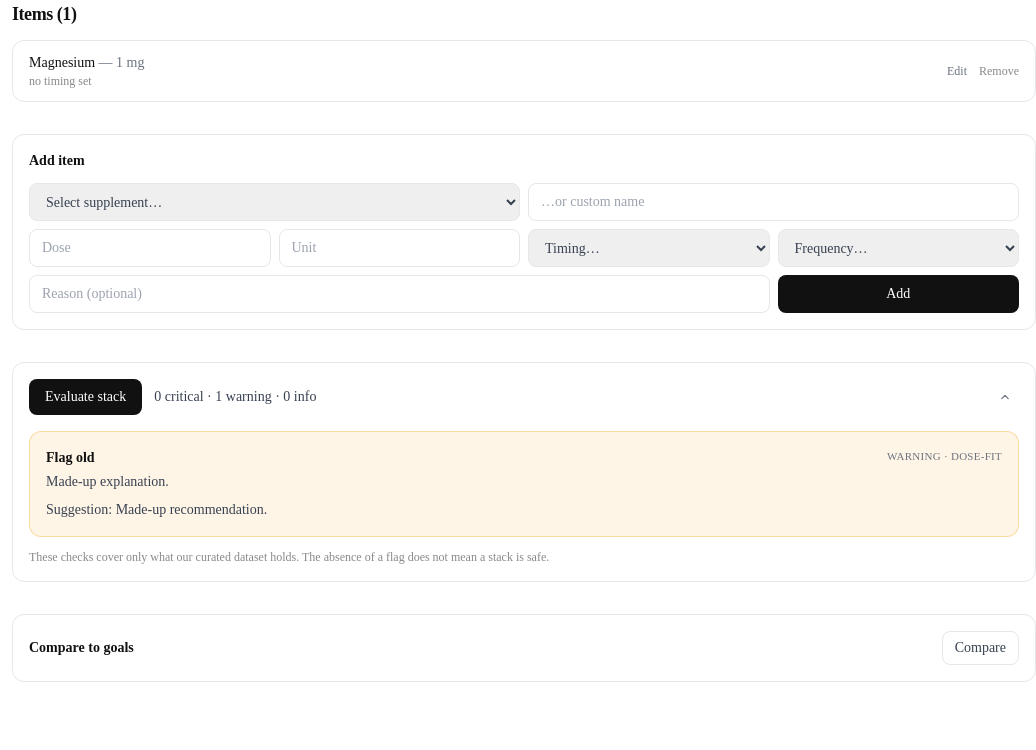
it: StackWorkspace — evaluation flags (rule 8) › an evaluation replaces the flags with the server's, in severity order
What coordinates should you click on to do the following:
click the button "Evaluate stack"
I would click on:
 (86, 397)
Its box is [29,379,142,415].
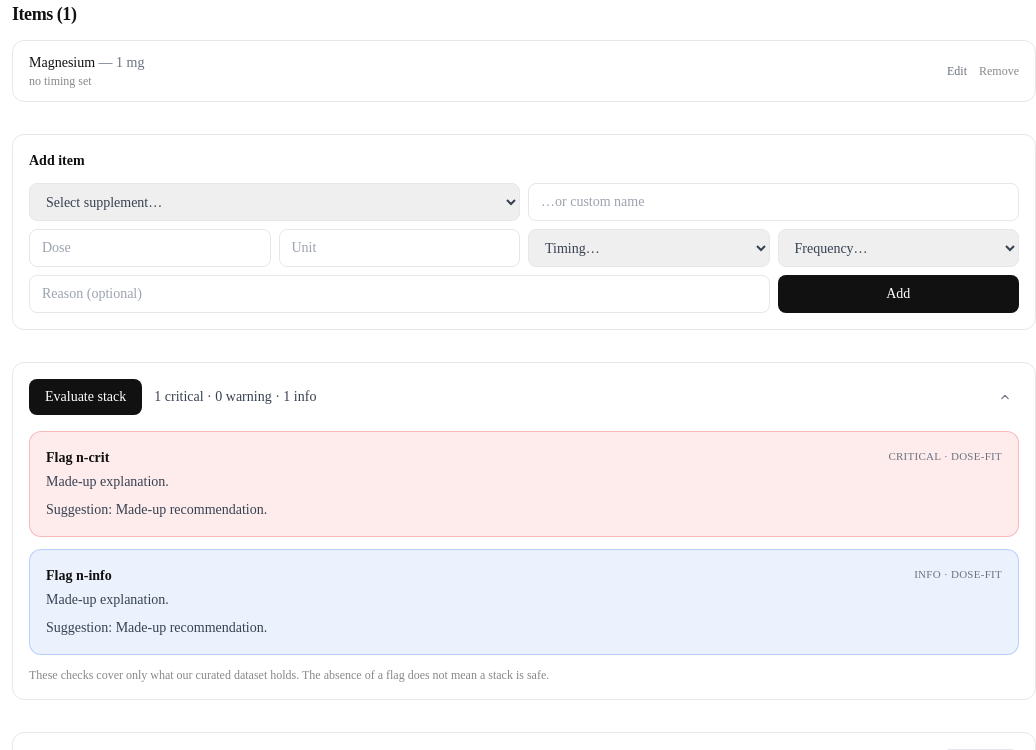
Expected: the text "1 critical · 0 warning · 1 info" is shown, [154,387,316,407]
